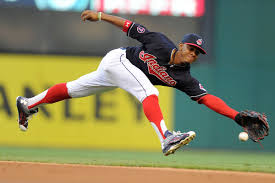baseball: (237, 130, 250, 143)
baseball player: (15, 9, 272, 158)
